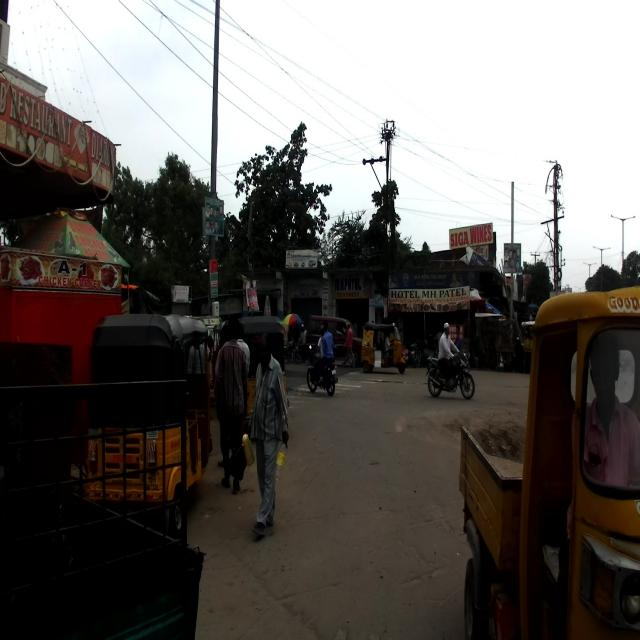autorickshaw: (459, 287, 639, 637), (1, 374, 205, 639), (88, 311, 214, 538), (236, 315, 290, 441)
car: (305, 314, 364, 369)
